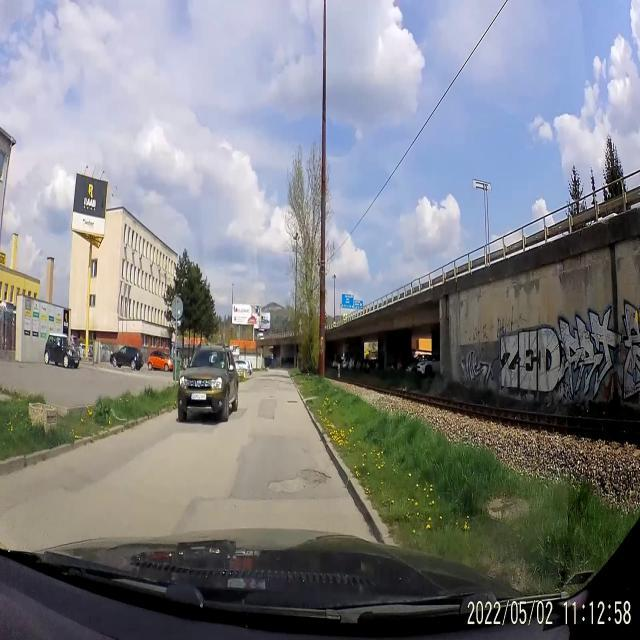Pothole: (267, 453, 330, 502), (284, 394, 304, 414)
